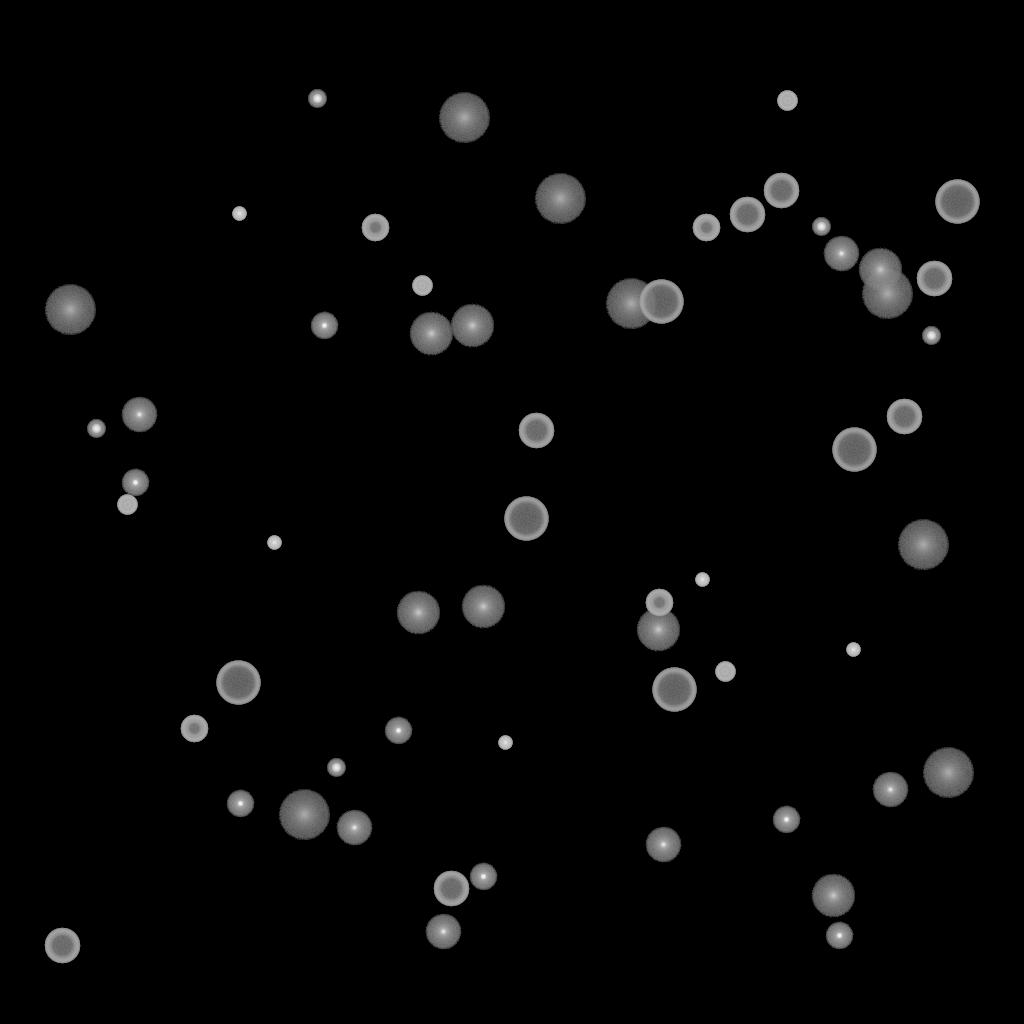depth:-10: (121, 469, 149, 497), (469, 863, 497, 891), (226, 790, 254, 818), (825, 922, 853, 950), (772, 806, 800, 834), (310, 312, 338, 340), (384, 717, 412, 745)
depth:-20: (922, 327, 940, 345), (327, 759, 345, 777), (308, 90, 326, 108), (87, 420, 105, 438), (812, 218, 830, 236)
depth:-30: (267, 536, 281, 550), (846, 643, 860, 657), (498, 736, 512, 750), (232, 207, 246, 221), (695, 573, 709, 587)
depth:-40: (117, 495, 137, 515), (715, 662, 735, 682), (777, 91, 797, 111), (412, 276, 432, 296)
depth:-50: (361, 214, 389, 242), (692, 214, 720, 242), (180, 715, 208, 743), (645, 589, 673, 617)
depth:-60: (916, 261, 952, 297), (518, 413, 554, 449), (729, 197, 765, 233), (886, 399, 922, 435), (44, 928, 80, 964), (763, 173, 799, 209), (433, 871, 469, 907)
depth:-70: (504, 497, 548, 541), (216, 661, 260, 705), (652, 668, 696, 712), (935, 180, 979, 224), (639, 280, 683, 324), (832, 428, 876, 472)
depth:0: (823, 236, 859, 272), (121, 397, 157, 433), (645, 827, 681, 863), (872, 772, 908, 808), (425, 914, 461, 950), (336, 810, 372, 846)
depth:10: (396, 591, 440, 635), (450, 304, 494, 348), (858, 248, 902, 292), (811, 874, 855, 918), (461, 585, 505, 629), (636, 608, 680, 652), (409, 312, 453, 356)
depth:20: (897, 520, 949, 570), (534, 174, 586, 224), (922, 748, 974, 798), (44, 285, 96, 335), (605, 279, 657, 329), (278, 790, 330, 840), (438, 93, 490, 143), (861, 269, 913, 319)
